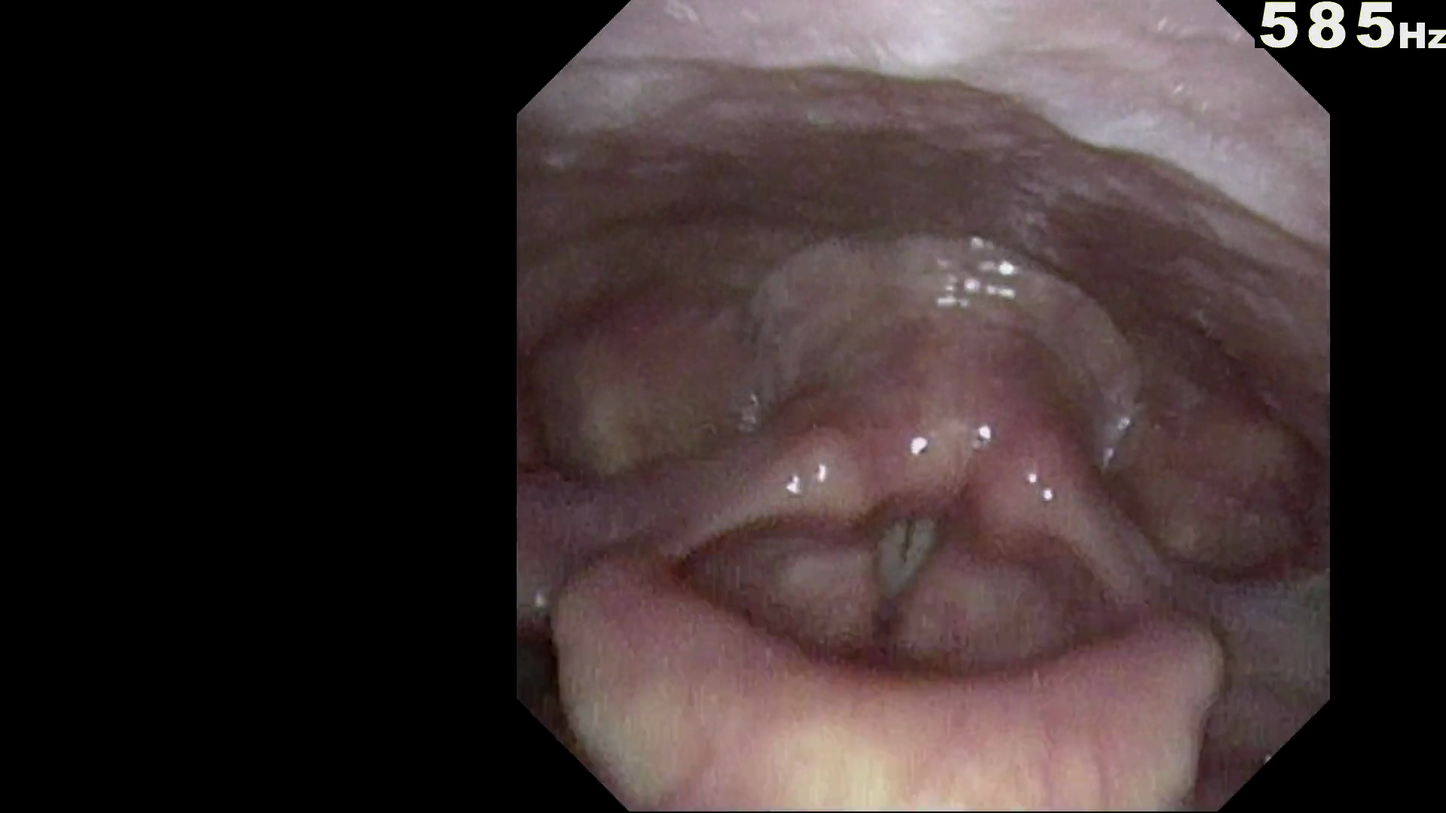epiglottis: (608, 612, 1215, 787)
trachea: (848, 488, 958, 623)
